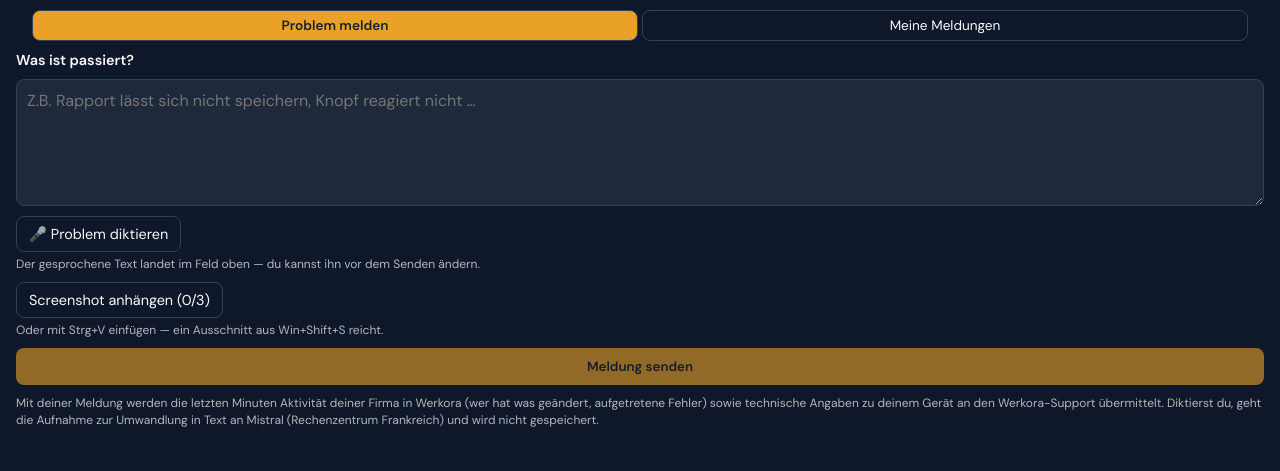
Test: SupportForm — Diktat › sagt es, wenn das Mikrofon gesperrt ist
This screenshot has width=1280, height=471.
Click the button "🎤 Problem diktieren".
click(99, 234)  # box [16,216,181,252]
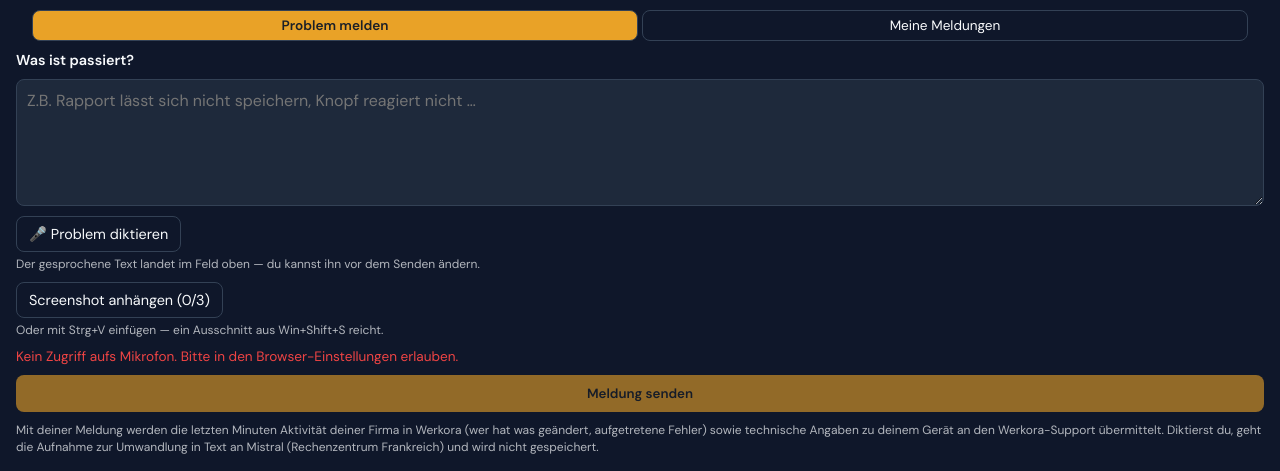
Check: the message shows "Mikrofon", box [16,348,458,365]
